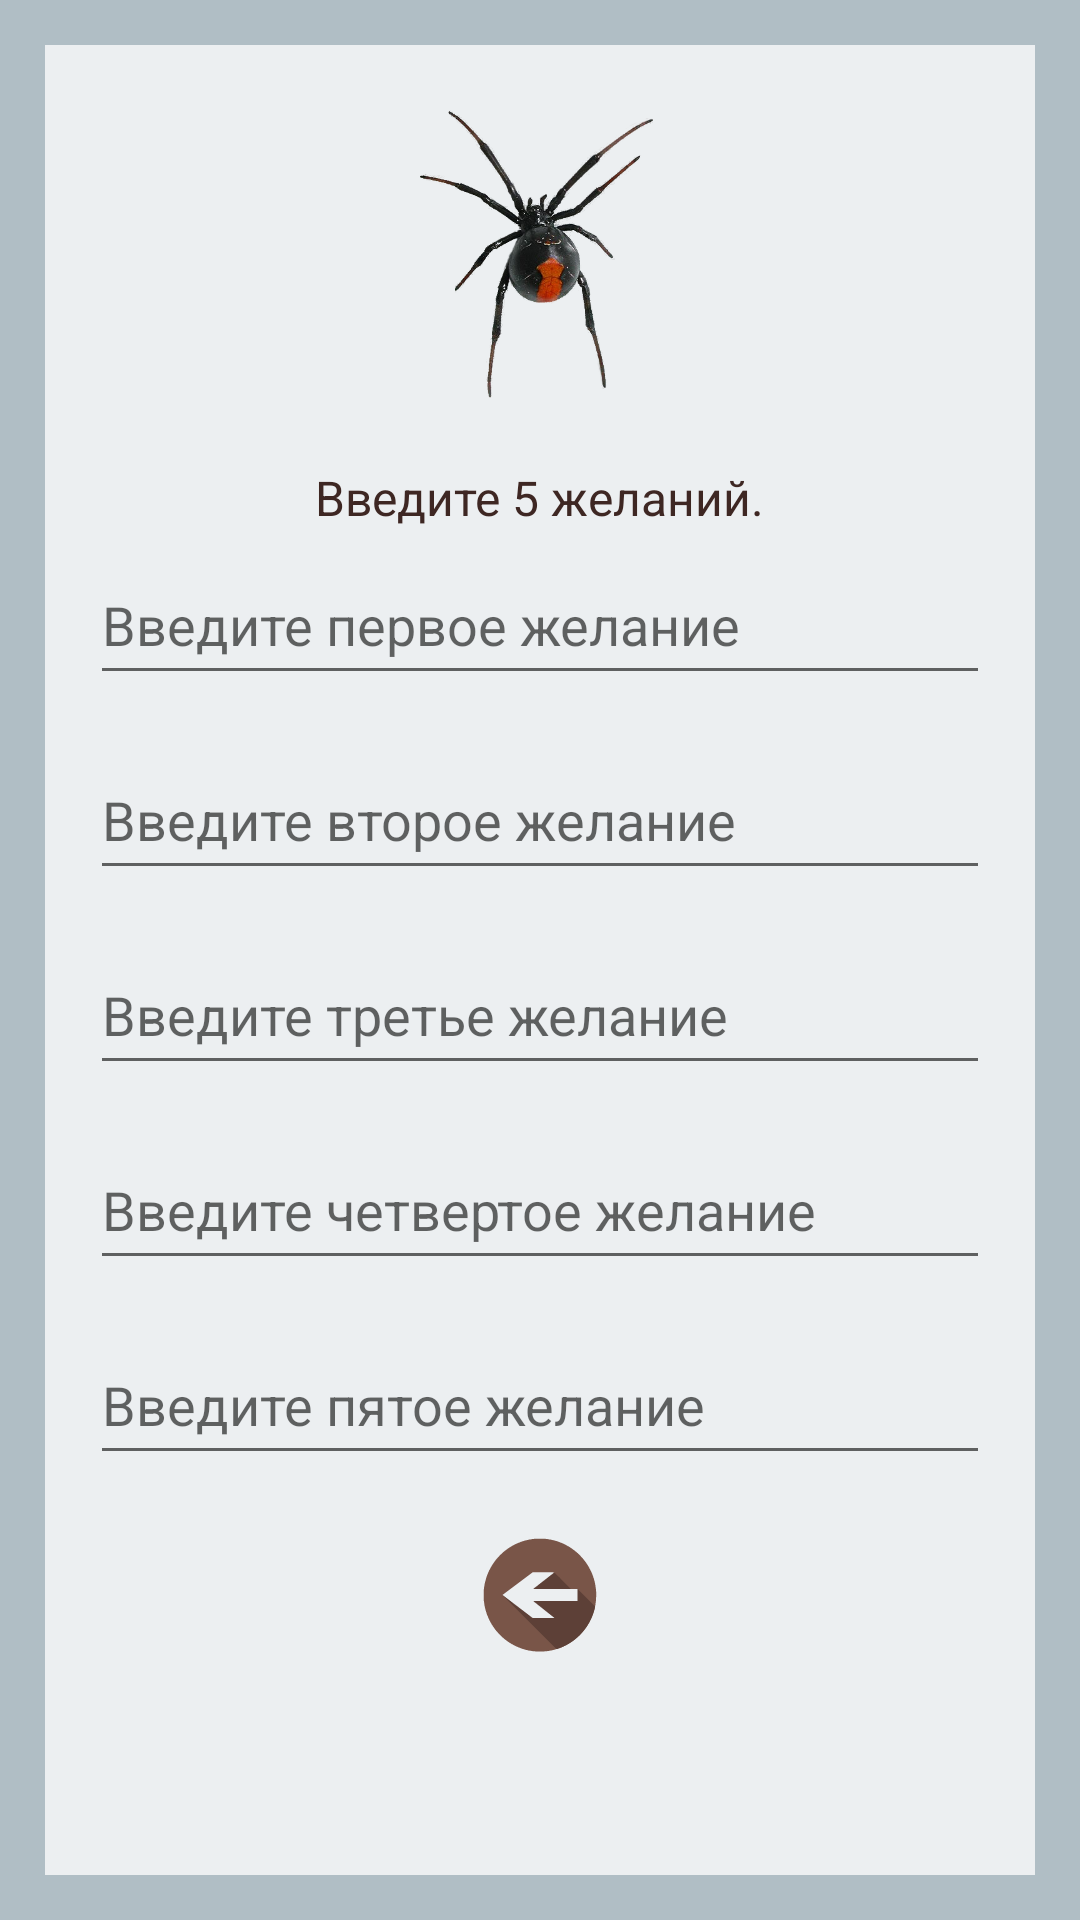

Named icons in this screenshot (1080*1920) and their centers, [x,y]:
spider: [536,254]
